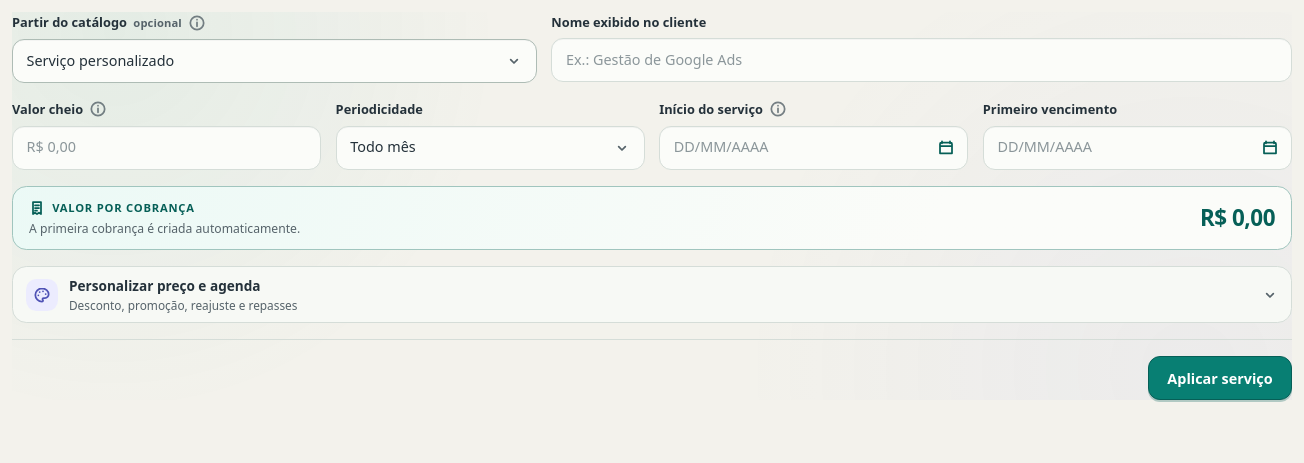
Test case: formulário de serviço do cliente › aponta cada campo que falta em vez de falhar em silêncio
The width and height of the screenshot is (1304, 463).
Click the button "Aplicar serviço" at (1220, 378), box top-left (1148, 356), bottom-right (1292, 400)
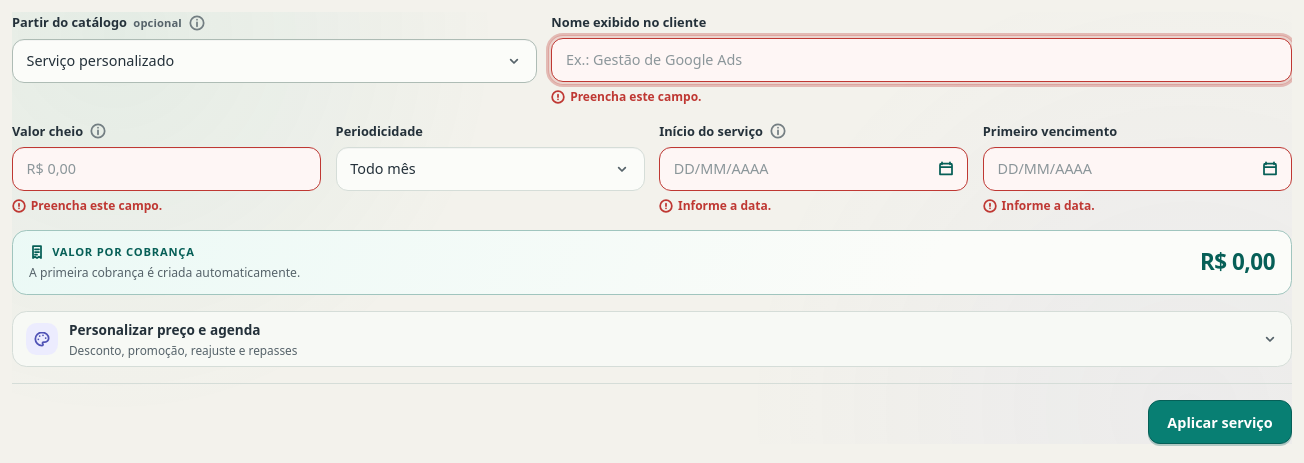
expect the text "Informe a data." is shown 2 times: met, box top-left (659, 197), bottom-right (771, 214); top-left (983, 197), bottom-right (1095, 214)
